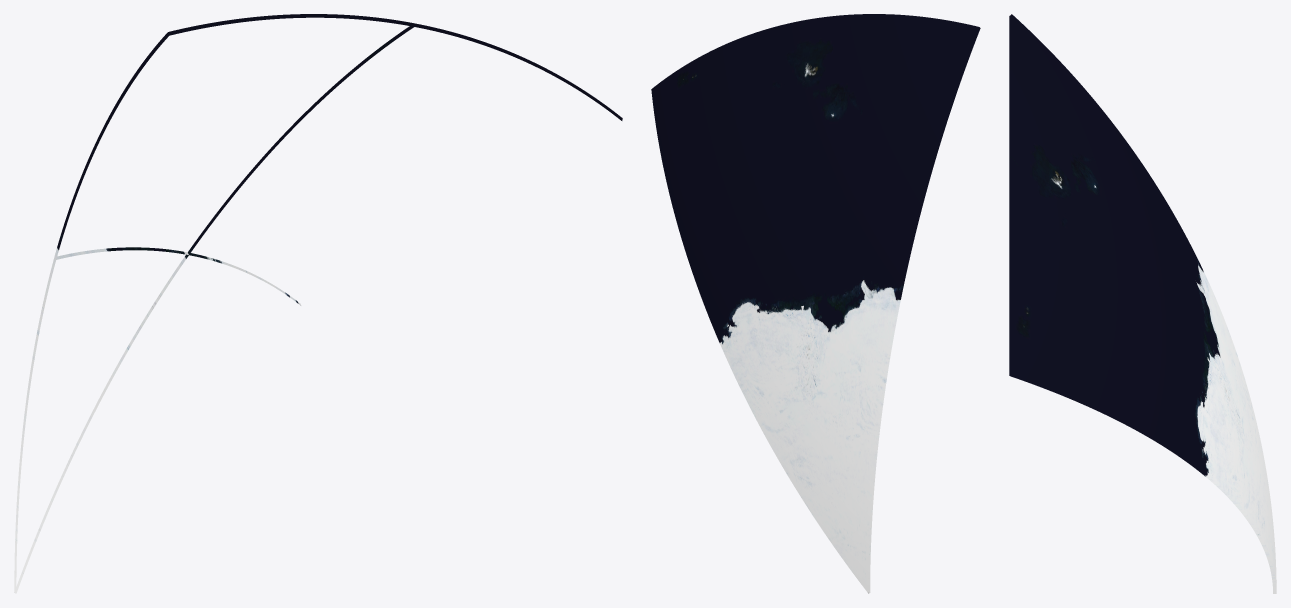
3 views of the same model, side by side, from view 1: azimuth 30°, elevation 25°; view 2: azimuth 150°, elevation 25°; view 3: azimuth 270°, elevation 25° (orthographic). The views are drawn at different scales.
Parts seen in each view (by area): view 1: DefaultName.012, DefaultName.009, DefaultName.003, DefaultName.006; view 2: DefaultName.009, DefaultName.012, DefaultName.006, DefaultName.003; view 3: DefaultName.012, DefaultName.009, DefaultName.003, DefaultName.006.
Part boxes in pixels (x1,y1,x2,y2): DefaultName.012: (188,23,622,254); DefaultName.009: (54,14,414,259); DefaultName.003: (16,253,301,593); DefaultName.006: (14,247,188,593); DefaultName.009: (793,14,980,309); DefaultName.012: (651,20,801,342); DefaultName.006: (801,302,898,593); DefaultName.003: (720,306,868,593); DefaultName.012: (1009,162,1207,475); DefaultName.009: (1009,14,1207,358); DefaultName.003: (1205,360,1276,593); DefaultName.006: (1207,280,1276,582).
Size of the model in its own units: 31944 by 45176 by 18870.
Materials: 4 (4 with a texture image).
